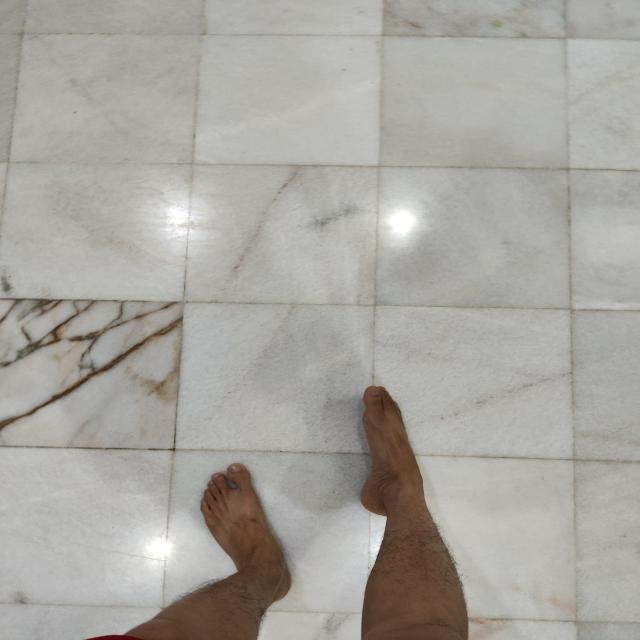No_Shoes: (332, 356, 456, 542), (186, 446, 302, 615)
